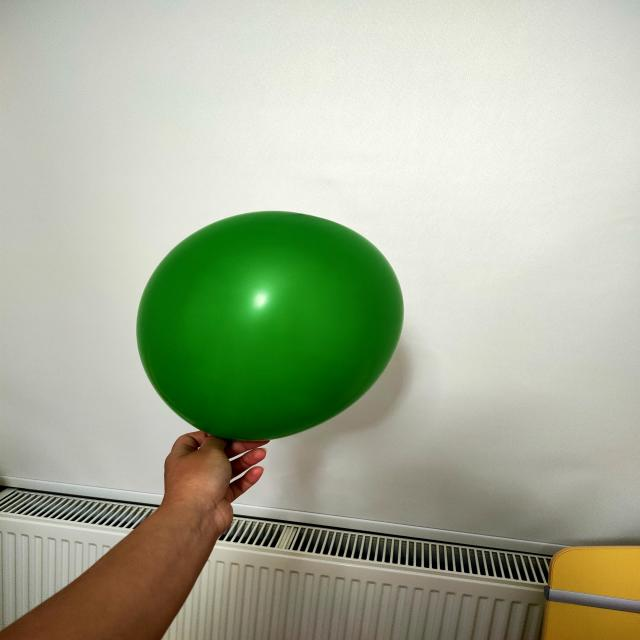green: (142, 211, 405, 445)
